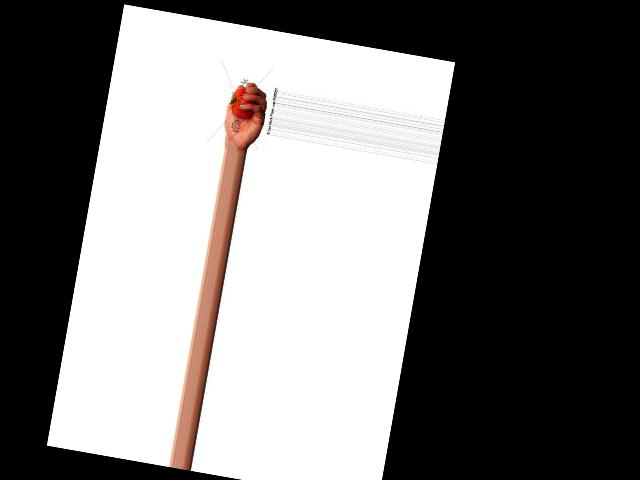tomato: (229, 85, 259, 118)
